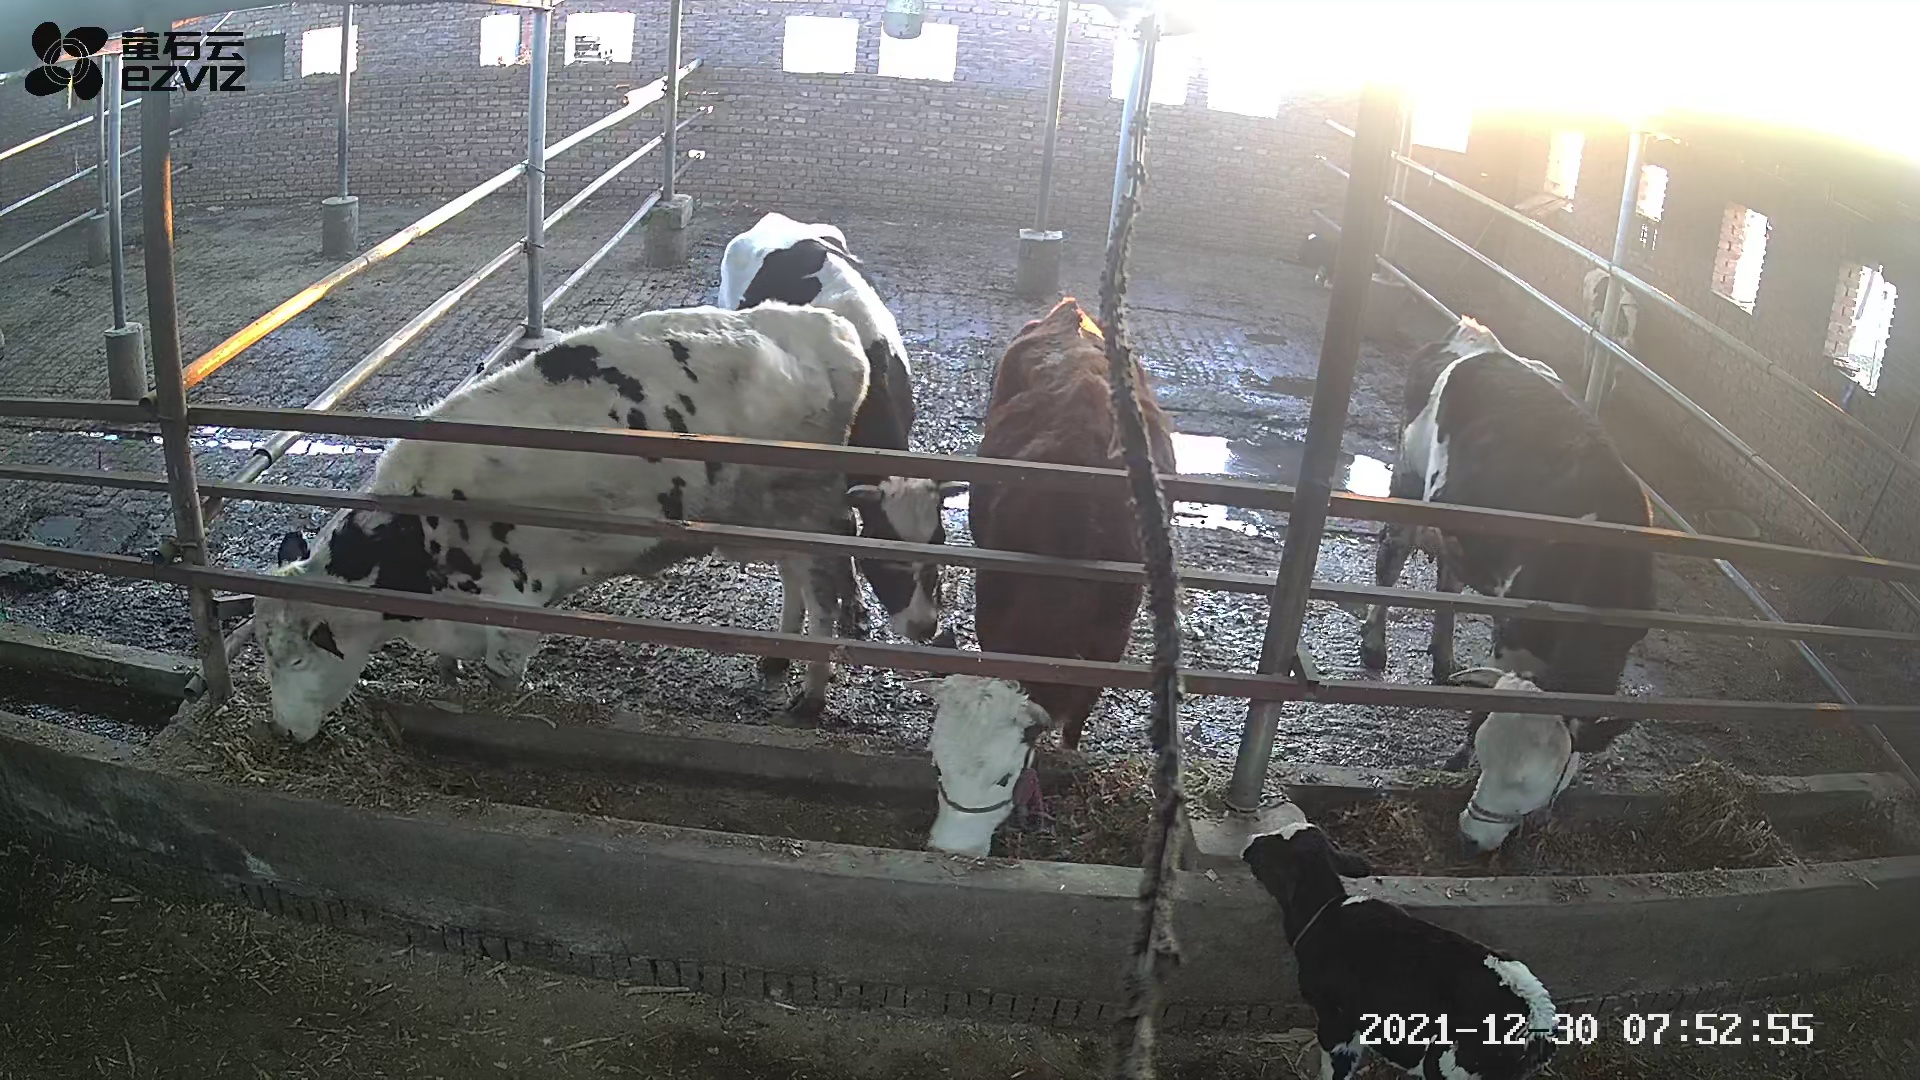cow: (251, 295, 872, 746), (1356, 311, 1658, 853), (898, 297, 1178, 860), (713, 211, 969, 642)
